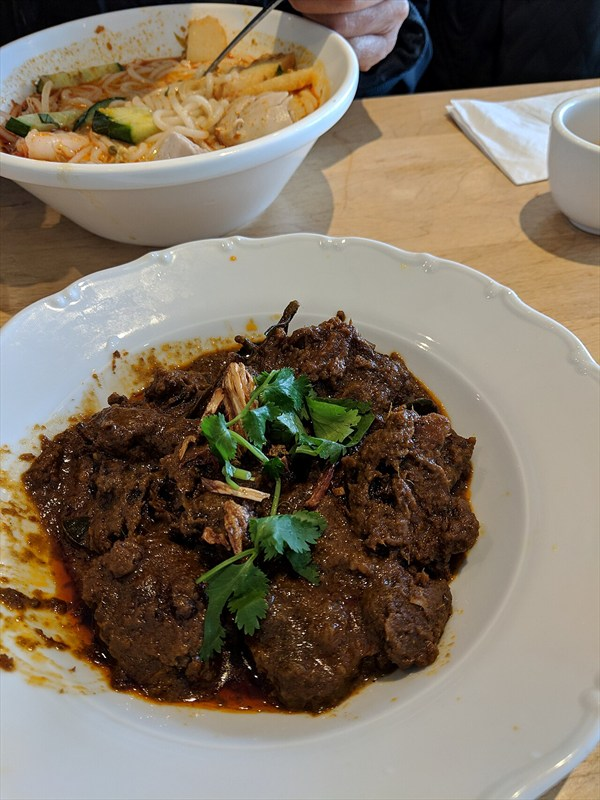Rendang: (20, 45, 475, 708)
